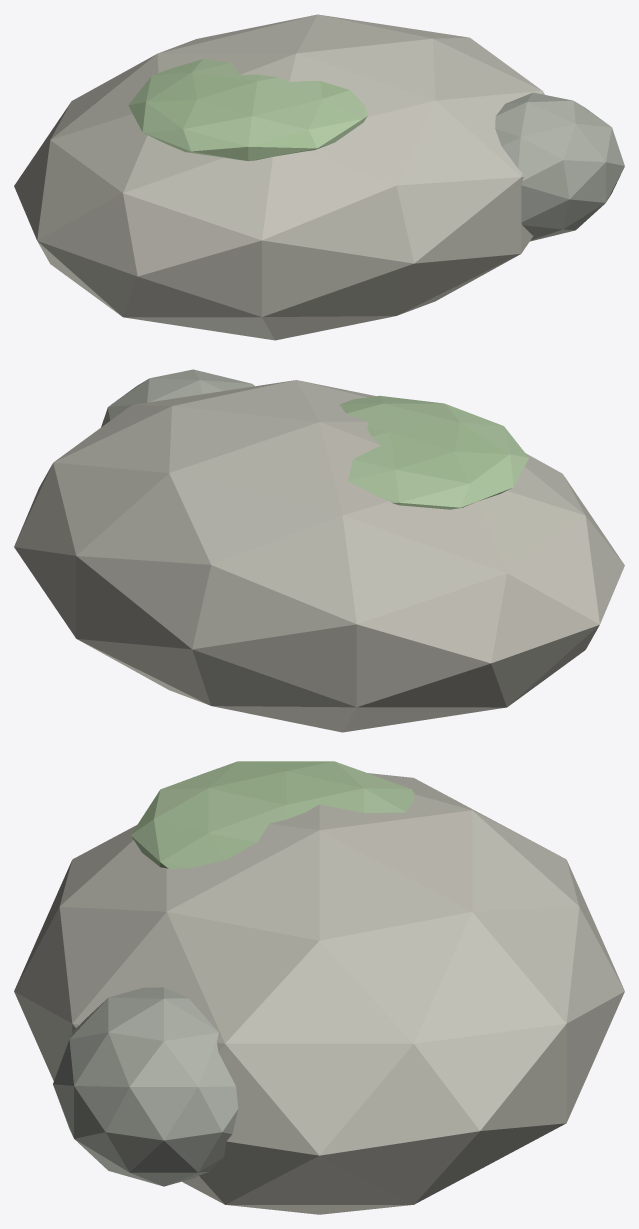
Rendered from stepping_stone.glb.
3 renders of one model, top to bottom at view 1: azimuth 30°, elevation 25°; view 2: azimuth 150°, elevation 25°; view 3: azimuth 270°, elevation 25°, orthographic. The views are drawn at different scales.
Parts seen in each view (by area): view 1: Pale_rock_body, Soft_moss_top, Rock_corner; view 2: Pale_rock_body, Soft_moss_top, Rock_corner; view 3: Pale_rock_body, Rock_corner, Soft_moss_top.
Part boxes in pixels (left/top/right/bottom): Pale_rock_body: left=14, top=14, right=544, bottom=340; Soft_moss_top: left=128, top=59, right=367, bottom=161; Rock_corner: left=495, top=92, right=624, bottom=241; Pale_rock_body: left=14, top=380, right=624, bottom=732; Soft_moss_top: left=339, top=395, right=528, bottom=509; Rock_corner: left=101, top=369, right=254, bottom=427; Pale_rock_body: left=14, top=773, right=624, bottom=1214; Rock_corner: left=53, top=987, right=238, bottom=1186; Soft_moss_top: left=131, top=761, right=414, bottom=869.
Bounding box in the file's own units: 1.4 × 0.64 × 1.1.
